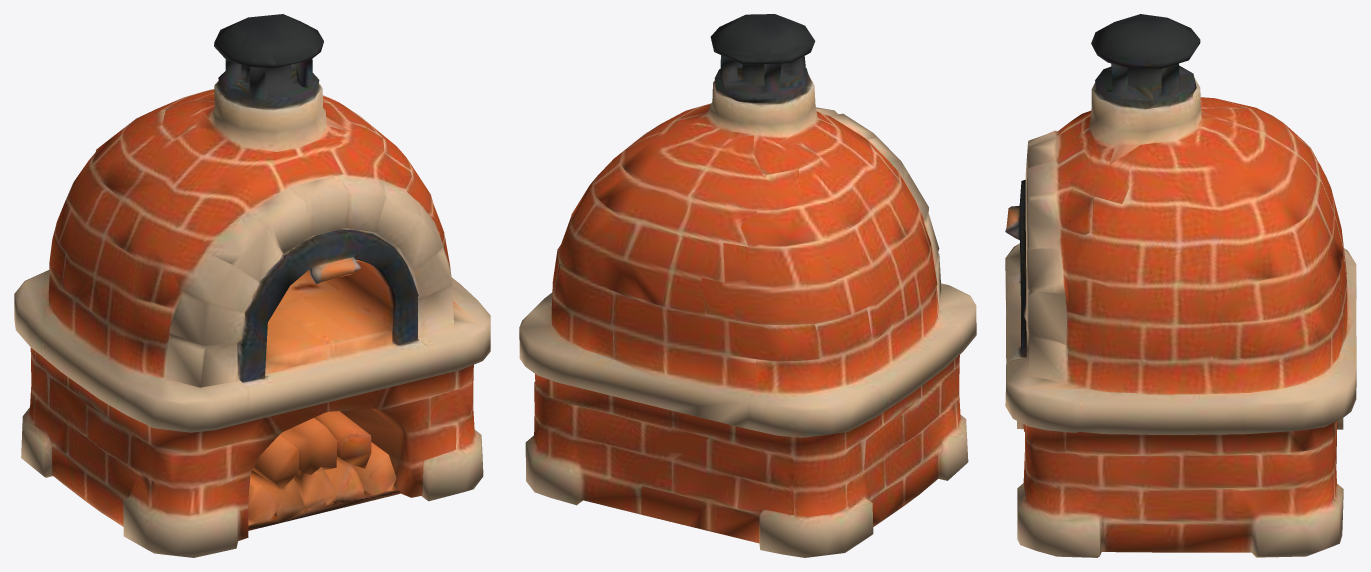
File: pizzaoven.glb
The picture shows the model from 3 angles, left to right: view 1: azimuth 30°, elevation 25°; view 2: azimuth 150°, elevation 25°; view 3: azimuth 270°, elevation 25°; orthographic projection. The views are drawn at different scales.
Parts seen in each view (by area): view 1: model; view 2: model; view 3: model.
Boxes of the visible parts, bbox=[...] form: model: bbox=[14, 14, 490, 557]; model: bbox=[519, 14, 976, 557]; model: bbox=[1005, 14, 1356, 557].
Bounding box in the file's own units: 1.57 × 1.9 × 1.33.
1 material, 1 textured.
